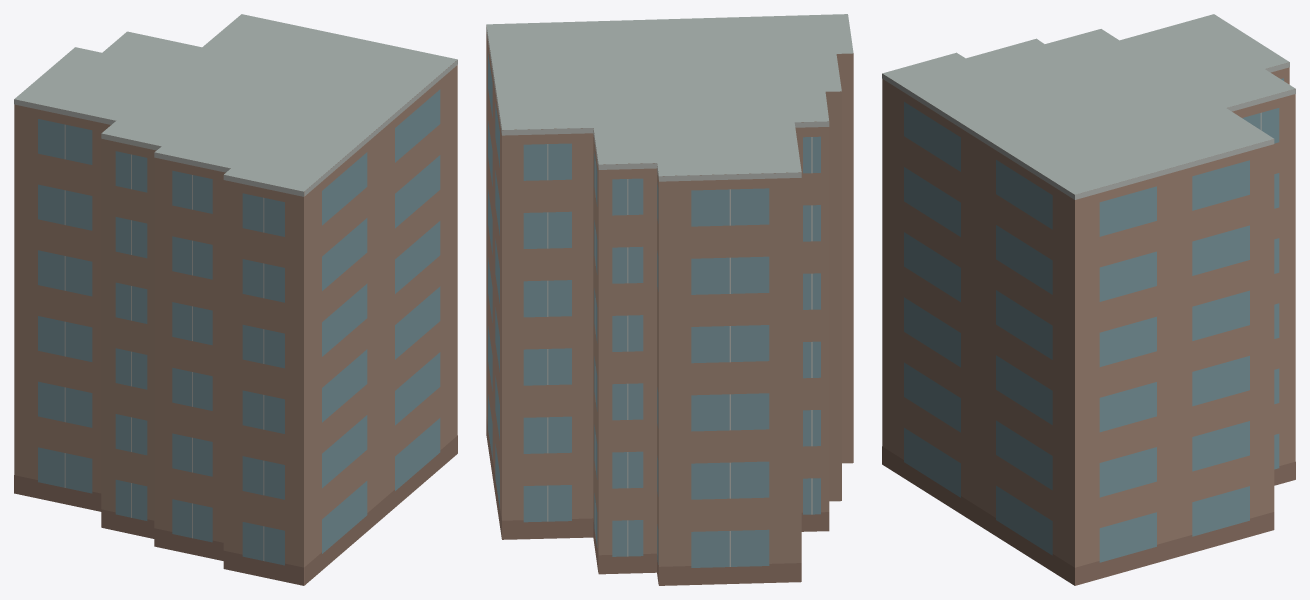
Rendered from survey-upis-32598302.glb.
3 views of the same model, side by side, from view 1: azimuth 30°, elevation 25°; view 2: azimuth 150°, elevation 25°; view 3: azimuth 270°, elevation 25° (orthographic). The views are drawn at different scales.
Parts seen in each view (by area): view 1: survey-upis-32598302.tmp; view 2: survey-upis-32598302.tmp; view 3: survey-upis-32598302.tmp.
Part boxes in pixels (x1,y1,x2,y2): survey-upis-32598302.tmp: (14,14,457,585); survey-upis-32598302.tmp: (486,14,853,585); survey-upis-32598302.tmp: (882,14,1295,585).
Size of the model in its own units: 18.16 by 18.3 by 17.55.
